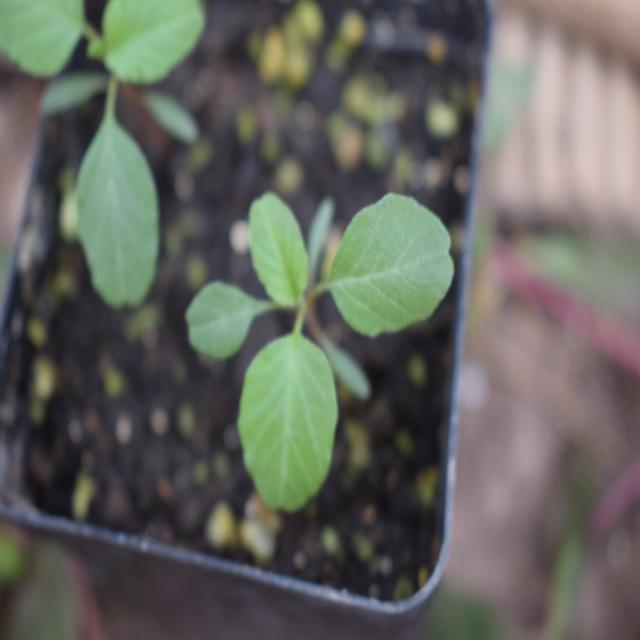pigweed: (174, 150, 445, 508)
